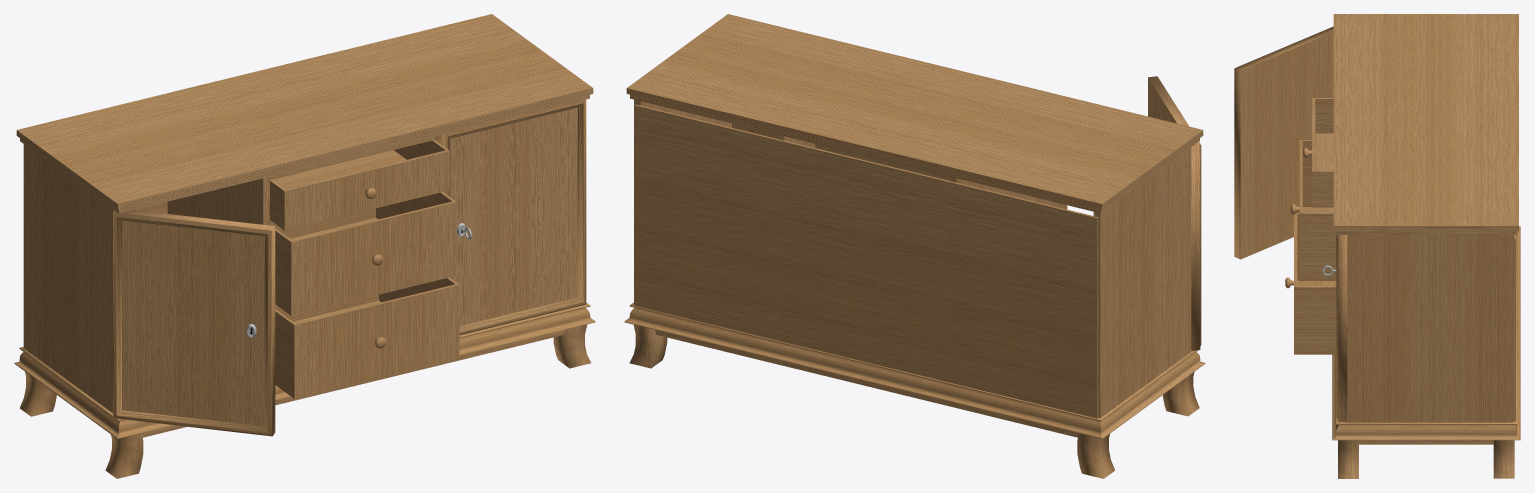
The model's file is Cabinet.fbx.
3 views of the same model, side by side, from view 1: azimuth 30°, elevation 25°; view 2: azimuth 150°, elevation 25°; view 3: azimuth 270°, elevation 25° (orthographic). The views are drawn at different scales.
Visible parts, largest first — view 1: Cabinet, DoorLeft, DoorRight, Drawer2, Drawer3, Drawer1; view 2: Cabinet, DoorLeft, Drawer1; view 3: Cabinet, DoorLeft, Drawer3, Drawer2, Drawer1, DoorRight.
Part boxes in pixels (box(x1,y1,x2,y2)): Cabinet: box(14, 14, 595, 478); DoorLeft: box(113, 210, 275, 436); DoorRight: box(442, 99, 586, 334); Drawer2: box(273, 192, 456, 315); Drawer3: box(275, 277, 459, 398); Drawer1: box(270, 140, 449, 230); Cabinet: box(624, 14, 1205, 478); DoorLeft: box(1148, 76, 1201, 350); Drawer1: box(815, 144, 949, 180); Cabinet: box(1332, 14, 1520, 478); DoorLeft: box(1234, 26, 1333, 259); Drawer3: box(1285, 213, 1336, 354); Drawer2: box(1290, 140, 1336, 280); Drawer1: box(1303, 98, 1333, 207); DoorRight: box(1336, 235, 1347, 421).
Bounding box in the file's own units: 1.61 × 0.8927 × 0.916.
